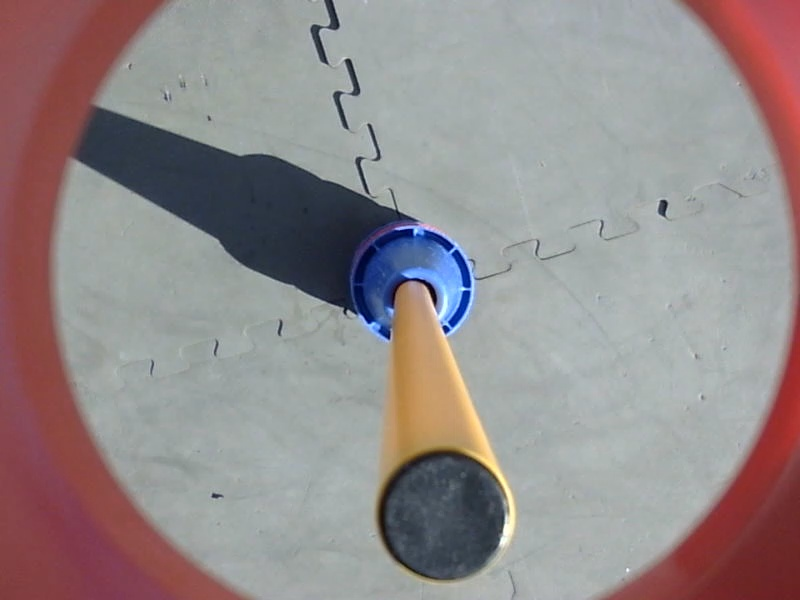tip: (369, 442, 523, 590)
